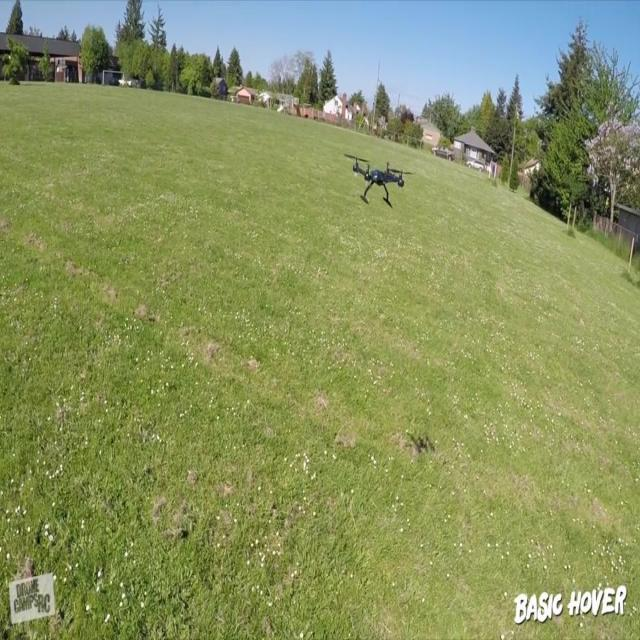drone: (346, 150, 408, 213)
